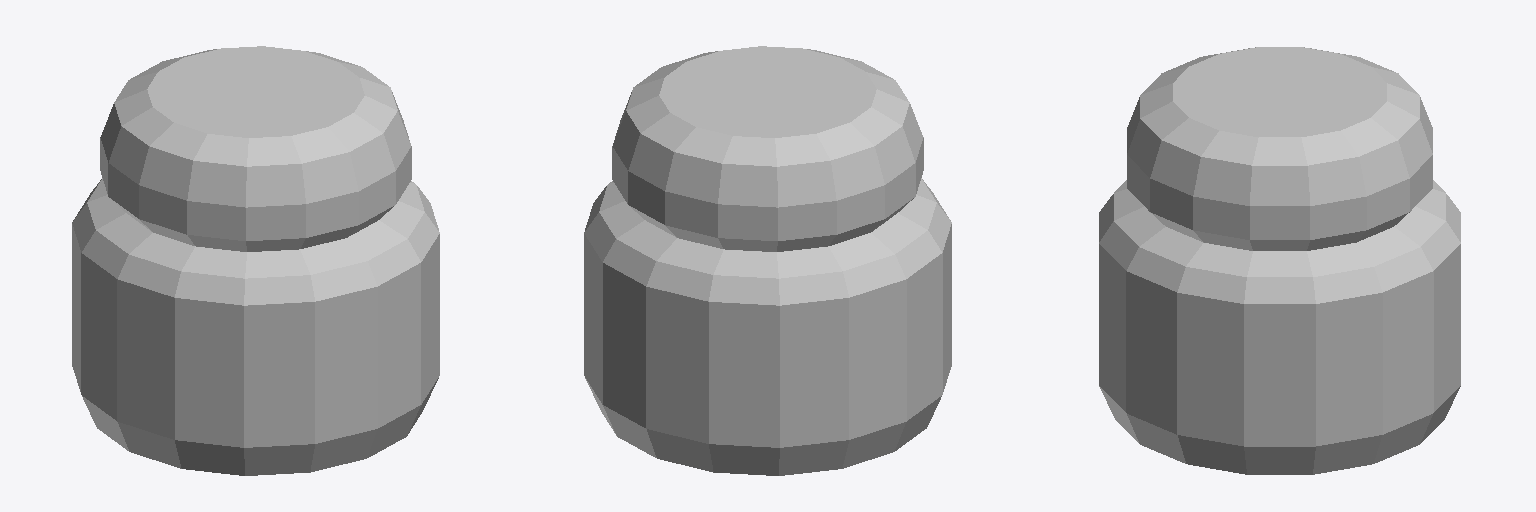
The model's file is container_bathroom_C_yellow.obj.
3 renders of one model, left to right at view 1: azimuth 30°, elevation 25°; view 2: azimuth 150°, elevation 25°; view 3: azimuth 270°, elevation 25°, orthographic.
Parts seen in each view (by area): view 1: container_bathroom_C_yellow; view 2: container_bathroom_C_yellow; view 3: container_bathroom_C_yellow.
Part boxes in pixels (x1,y1,x2,y2): container_bathroom_C_yellow: (72,46,439,475); container_bathroom_C_yellow: (584,46,951,475); container_bathroom_C_yellow: (1099,47,1460,474).
Bounding box in the file's own units: 0.312 × 0.3119 × 0.3126.